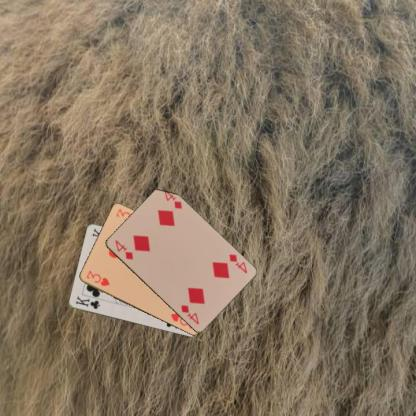3h: (84, 268, 111, 287)
4d: (226, 251, 248, 275), (112, 238, 134, 260)
Kc: (73, 294, 100, 310)
